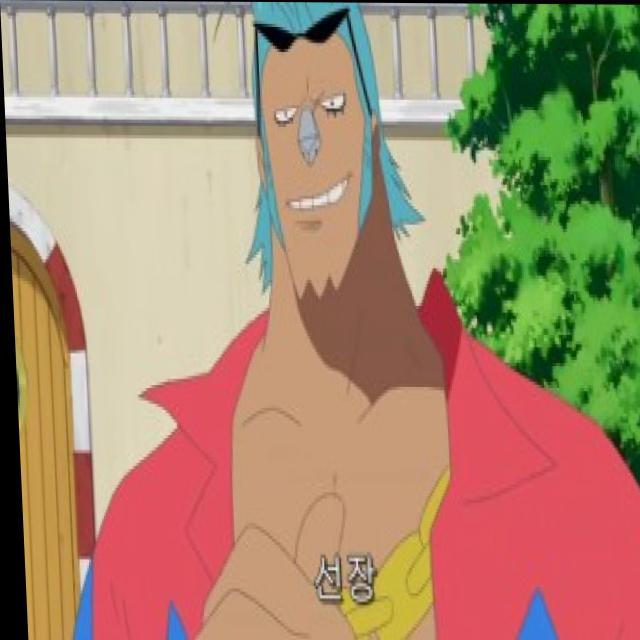Franky: (216, 1, 406, 311)
